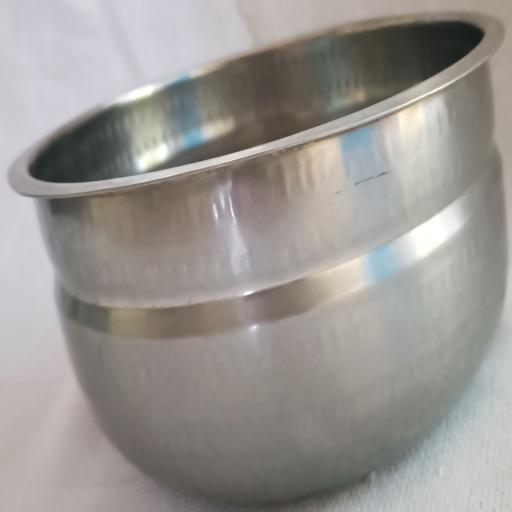vessel: (10, 13, 506, 484)
